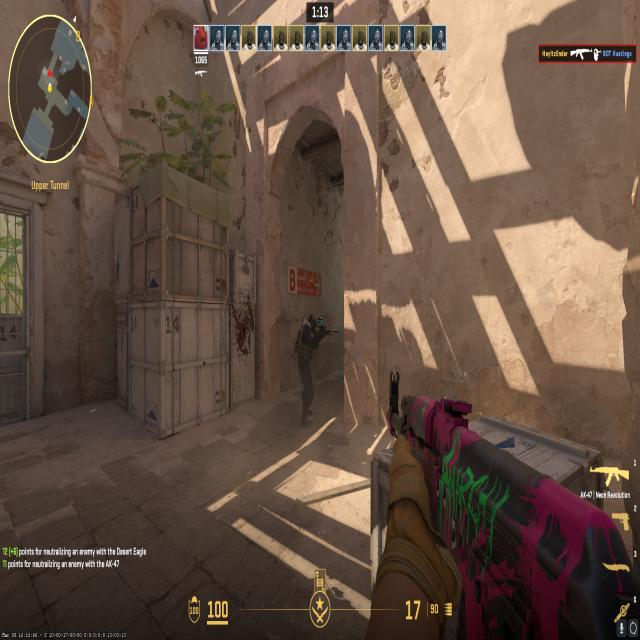ct: (290, 296, 327, 435)
